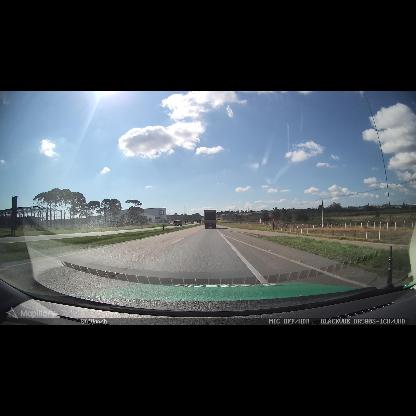R-2: (271, 218, 276, 223)
R-24a: (259, 218, 262, 224)
